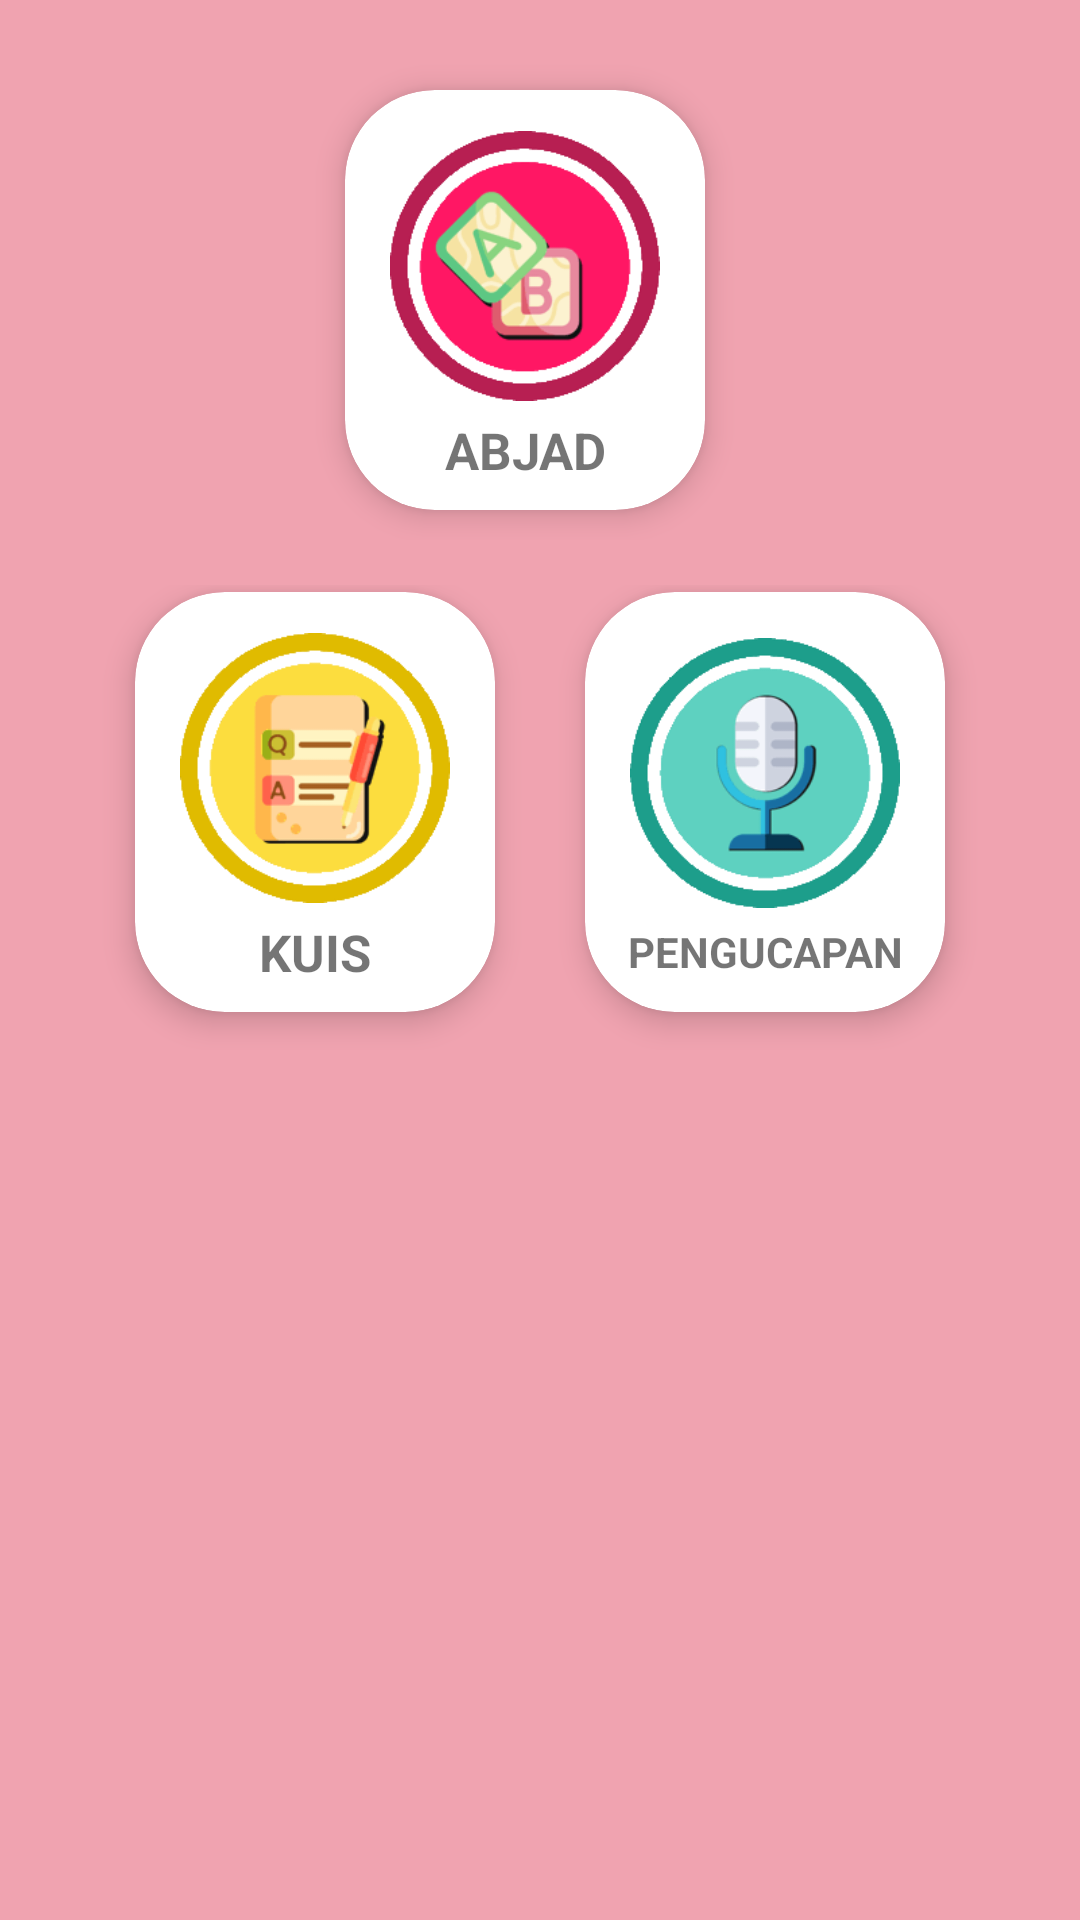

Screen size 1080×1920. Icon name, then its center in pixels as (x,y):
mic: (765,773)
